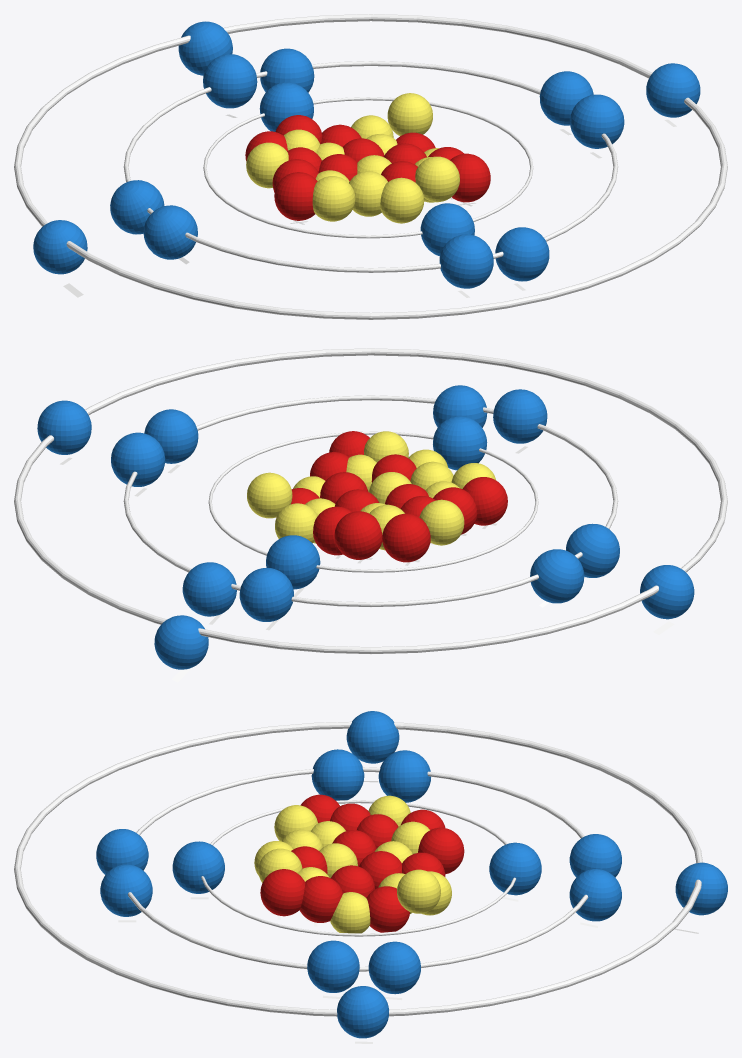
The picture shows the model from 3 angles, top to bottom: view 1: azimuth 30°, elevation 25°; view 2: azimuth 150°, elevation 25°; view 3: azimuth 270°, elevation 25°; orthographic projection. The views are drawn at different scales.
Visible parts, largest first — view 1: Torus.003, Torus.002, Torus.001, -.008, -.004, -.005, -.003, -.002, -.010, -.011, -.006, -.012 (+22 smaller); view 2: Torus.003, Torus.002, Torus.001, -.004, -.009, -.008, -.006, -.012, -.007, -.010, -.011, - (+23 smaller); view 3: Torus.003, Torus.002, -.007, -.002, -.010, -.011, Torus.001, -, -.001, -.003, -.006, -.009 (+25 smaller).
Part boxes in pixels (x1,y1,x2,y2): Torus.003: (14,14,727,319); Torus.002: (123,61,618,272); Torus.001: (203,97,533,238); -.008: (439,234,493,288); -.004: (203,54,257,108); -.005: (495,227,549,281); -.003: (143,205,197,259); -.002: (570,94,624,148); -.010: (646,63,700,117); -.011: (33,220,87,274); -.006: (110,180,164,234); -.012: (178,21,232,75); Torus.003: (14,348,727,653); Torus.002: (123,395,618,606); Torus.001: (208,431,538,572); -.004: (239,568,293,621); -.009: (182,562,236,616); -.008: (493,389,547,443); -.006: (530,549,584,603); -.012: (154,615,208,669); -.007: (111,432,165,486); -.010: (37,400,91,454); -.011: (640,565,694,619); -: (433,416,487,470); Torus.003: (14,721,702,1016); Torus.002: (128,767,588,971); -.007: (368,941,420,994); -.002: (307,940,359,992); -.010: (337,986,388,1038); -.011: (346,711,399,763); Torus.001: (201,800,515,936); -: (172,841,224,893); -.001: (489,842,541,895); -.003: (311,749,364,800); -.006: (378,750,430,802); -.009: (569,869,621,921).
Bounding box in the file's own units: 6.47 × 0.8399 × 6.32.
